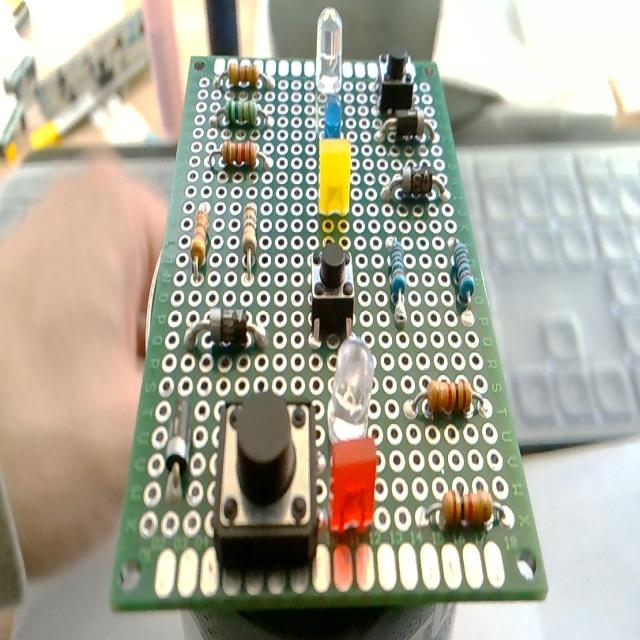diode: (193, 285, 255, 352), (382, 160, 442, 216), (380, 112, 432, 157)
led: (326, 433, 382, 555), (312, 131, 356, 223), (308, 3, 348, 92)
resistor: (428, 456, 498, 536), (413, 364, 484, 418), (383, 233, 416, 327), (448, 226, 473, 330), (211, 127, 265, 173), (211, 91, 265, 128), (219, 52, 265, 94), (187, 210, 219, 270), (240, 197, 258, 282)
switch: (210, 388, 314, 558), (304, 237, 358, 335), (372, 47, 418, 110)
